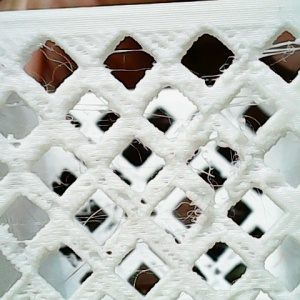3dpstringing: (95, 43, 164, 87), (25, 39, 76, 93), (220, 87, 273, 135), (76, 201, 129, 245), (154, 197, 205, 239), (66, 98, 119, 137), (4, 215, 50, 251), (185, 56, 240, 85), (128, 261, 171, 296), (251, 37, 299, 68), (55, 259, 97, 294), (185, 149, 221, 188), (142, 108, 199, 132), (46, 159, 88, 190), (115, 142, 149, 170), (253, 188, 276, 228), (228, 147, 246, 176), (7, 132, 29, 150), (4, 98, 31, 111)
3dpunderextrusion: (203, 182, 239, 235), (64, 233, 118, 265), (246, 146, 281, 193)
